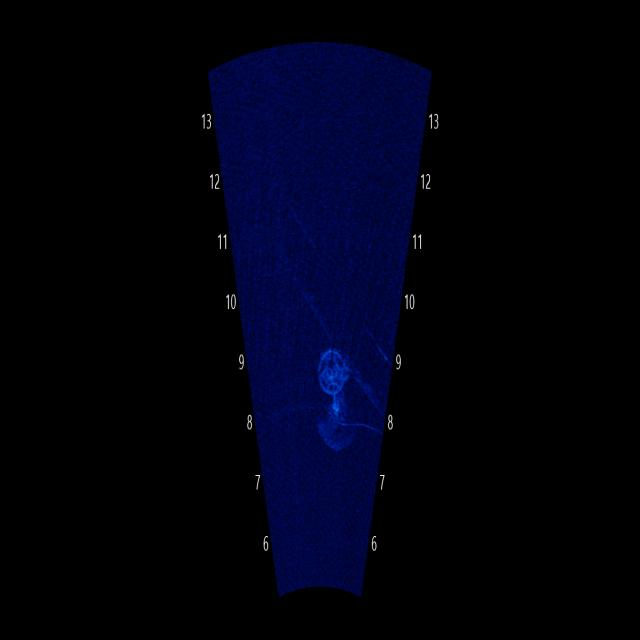circle: (310, 331, 362, 407)
